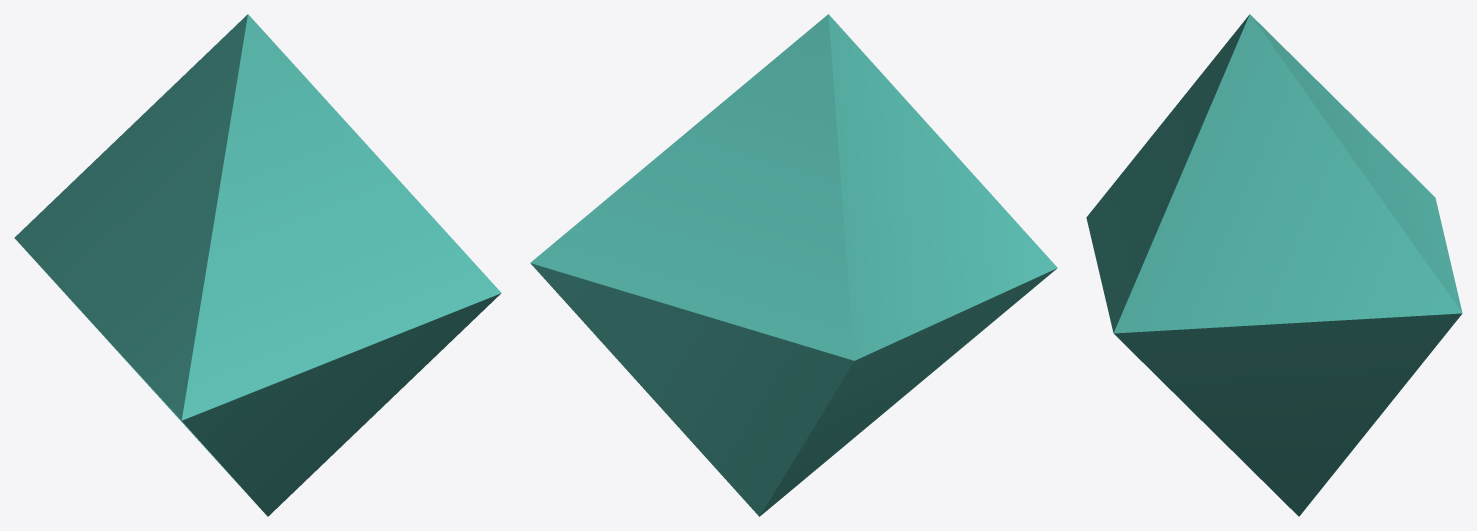
The model's file is 2064_Crystalfly_CoreCrystal.fbx.
3 views of the same model, side by side, from view 1: azimuth 30°, elevation 25°; view 2: azimuth 150°, elevation 25°; view 3: azimuth 270°, elevation 25° (orthographic). The views are drawn at different scales.
Visible parts, largest first — view 1: PART_RecessedElementCrystal; view 2: PART_RecessedElementCrystal; view 3: PART_RecessedElementCrystal.
Boxes of the visible parts, left/top/right/bottom form: PART_RecessedElementCrystal: left=14, top=14, right=501, bottom=516; PART_RecessedElementCrystal: left=530, top=14, right=1057, bottom=516; PART_RecessedElementCrystal: left=1086, top=14, right=1462, bottom=516.
Bounding box in the file's own units: 46.28 × 65.44 × 46.28.
